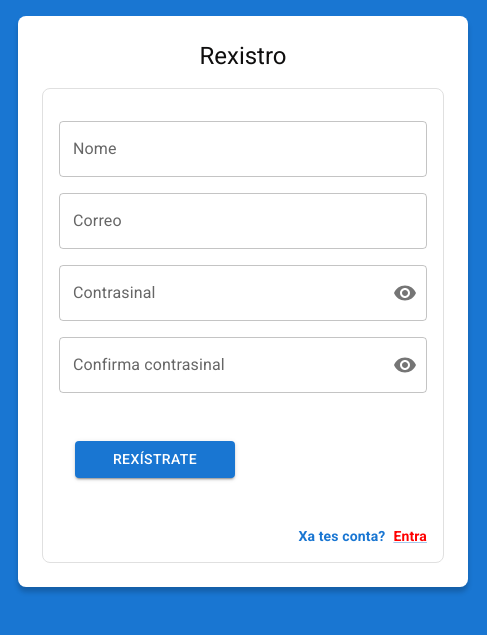
Test case: Register Page › should display error message when username is invalid
Type "Test User" into the field labelled "Nome" at (243,149), box [59, 121, 427, 177]
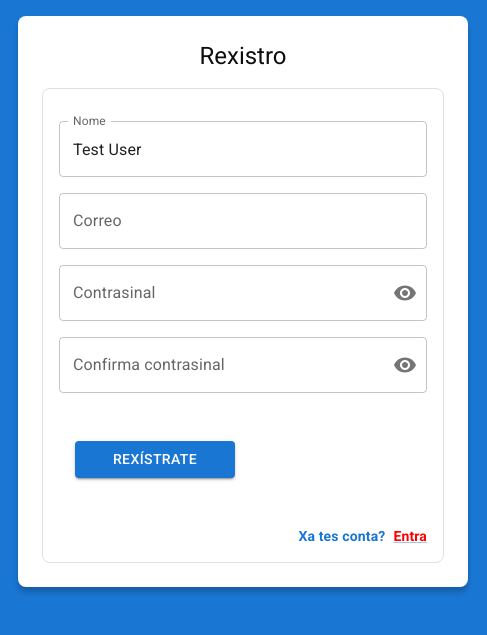
Type "dsa@dsa.com" into the field labelled "Correo" at (243,221), box [59, 193, 427, 249]
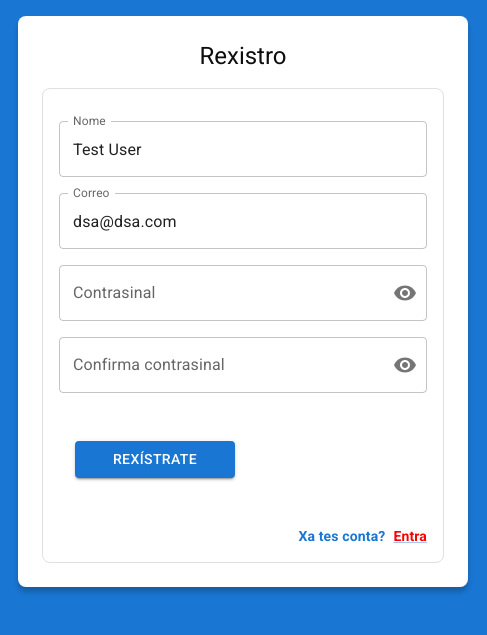
Type "Password.123" into the password field labelled "Contrasinal" at (218,293), box [59, 265, 377, 321]
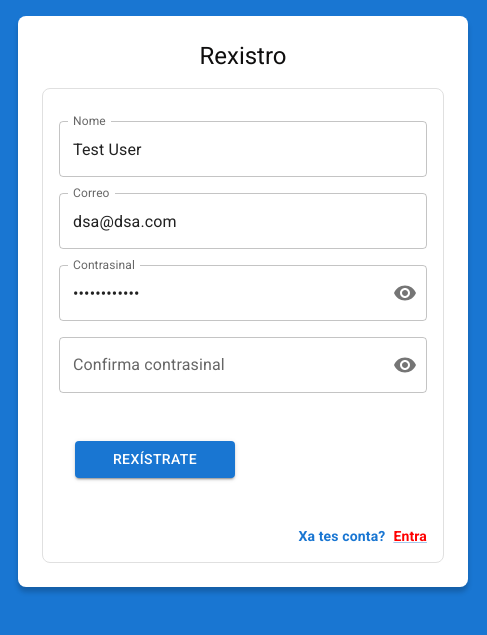
Type "Password.123" into the password field labelled "Confirma contrasinal" at (218,365), box [59, 337, 377, 393]
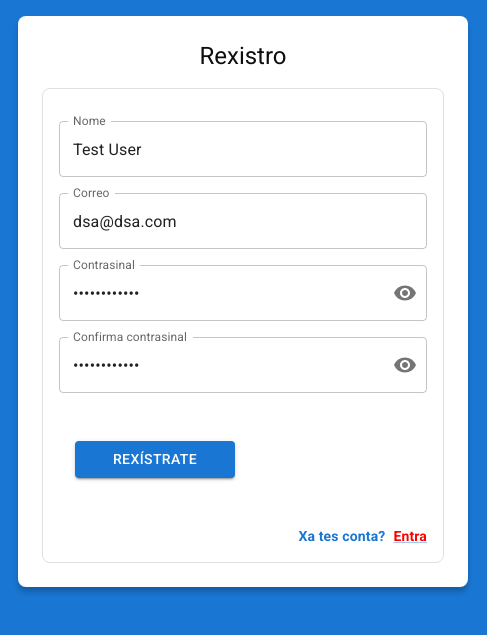
Click the button "Rexístrate" at (155,459), box [75, 441, 235, 478]
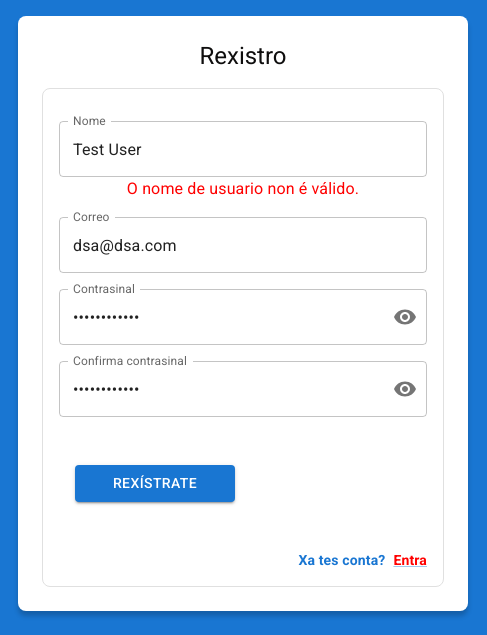
Check: the text "O nome de usuario non é válido." is shown, box [127, 179, 359, 198]
